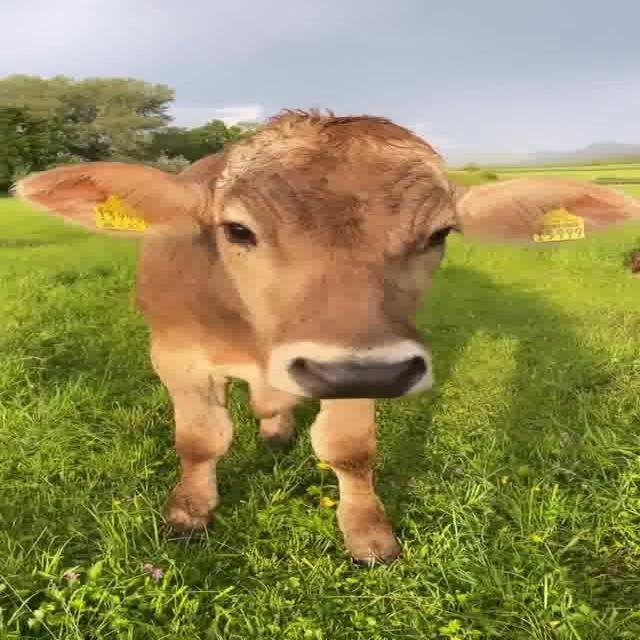cowFace: (10, 95, 633, 385)
